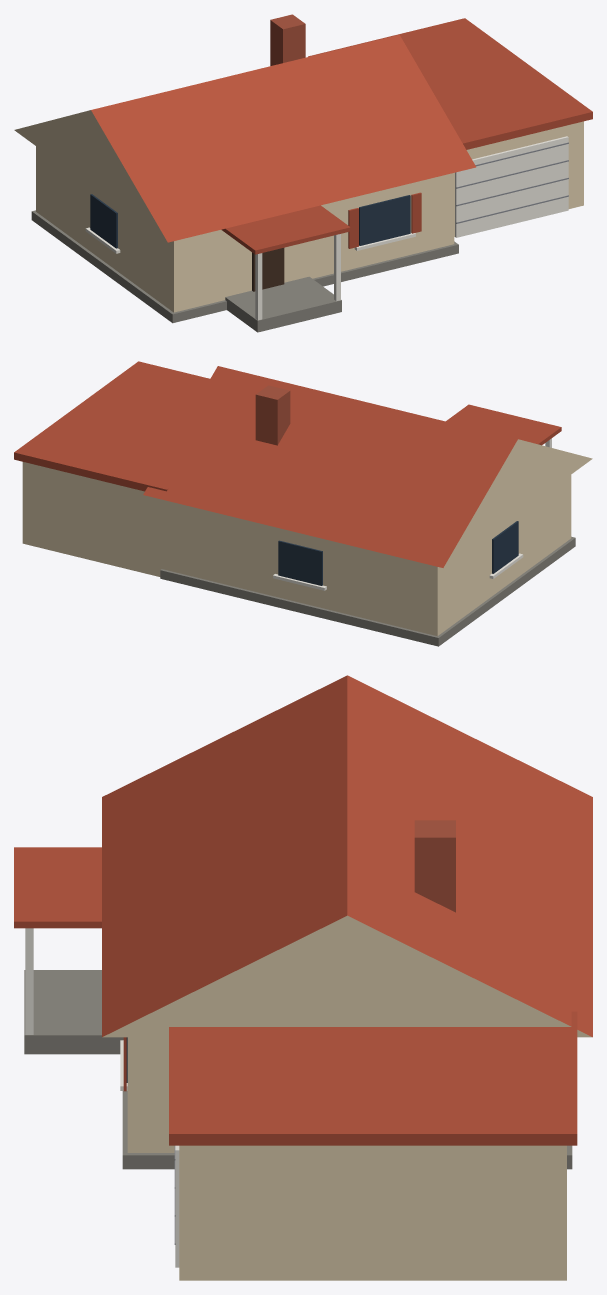
File: house_a.glb
3 renders of one model, top to bottom at view 1: azimuth 30°, elevation 25°; view 2: azimuth 150°, elevation 25°; view 3: azimuth 270°, elevation 25°, orthographic. The views are drawn at different scales.
Parts seen in each view (by area): view 1: house_a; view 2: house_a; view 3: house_a.
Part boxes in pixels (<box>): house_a: <box>14,14,592,332</box>; house_a: <box>14,361,592,646</box>; house_a: <box>14,675,592,1280</box>.
Size of what is drawn, in the model's own units: 15.9 by 6.05 by 11.2.
